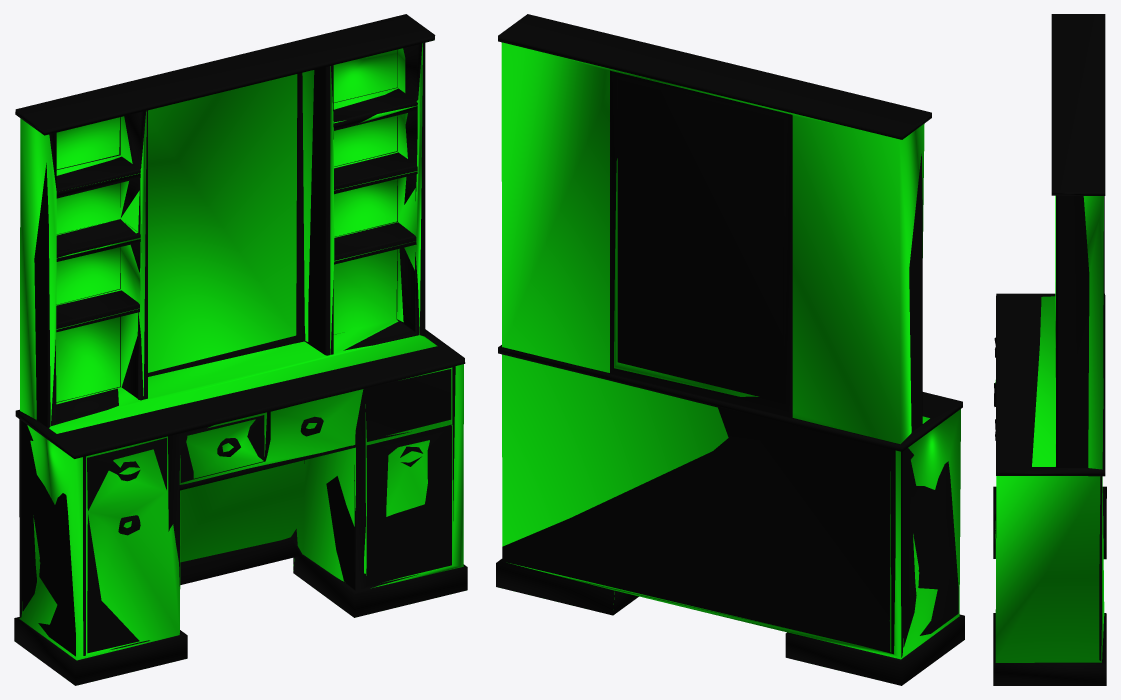
The model's file is wbread-cutstation.fbx.
3 views of the same model, side by side, from view 1: azimuth 30°, elevation 25°; view 2: azimuth 150°, elevation 25°; view 3: azimuth 270°, elevation 25° (orthographic). The views are drawn at different scales.
Visible parts, largest first — view 1: UTM_firegeo_LOD0, defaultobject_LOD0; view 2: defaultobject_LOD0, UTM_firegeo_LOD0; view 3: defaultobject_LOD0, UTM_firegeo_LOD0.
Boxes of the visible parts, bbox=[...] form: UTM_firegeo_LOD0: bbox=[19, 43, 463, 660]; defaultobject_LOD0: bbox=[14, 14, 467, 685]; defaultobject_LOD0: bbox=[496, 14, 964, 685]; UTM_firegeo_LOD0: bbox=[501, 42, 960, 659]; defaultobject_LOD0: bbox=[993, 14, 1106, 685]; UTM_firegeo_LOD0: bbox=[995, 195, 1106, 662].
Size of what is drawn, in the model's own units: 280 by 363 by 75.7.
